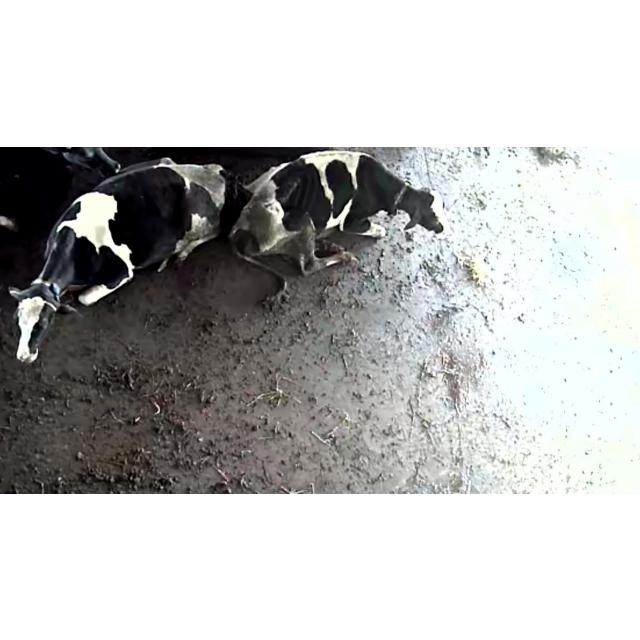lay: (3, 156, 230, 370), (234, 150, 456, 308)
